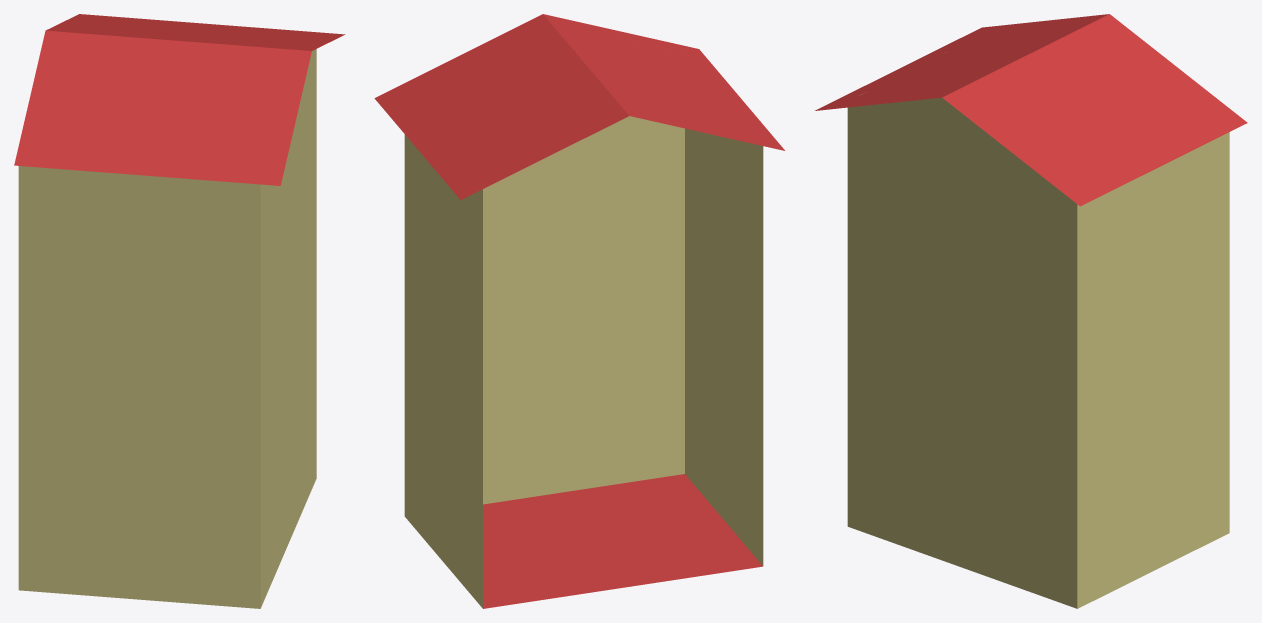
3 renders of one model, left to right at view 1: azimuth 30°, elevation 25°; view 2: azimuth 150°, elevation 25°; view 3: azimuth 270°, elevation 25°, orthographic. The views are drawn at different scales.
Bounding box in the file's own units: 8.85 × 9.06 × 10.97.
